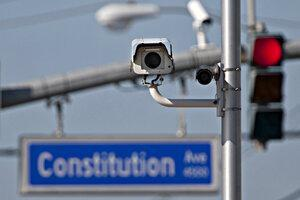Monitor: (125, 36, 176, 80), (190, 56, 223, 96), (181, 1, 223, 32)
